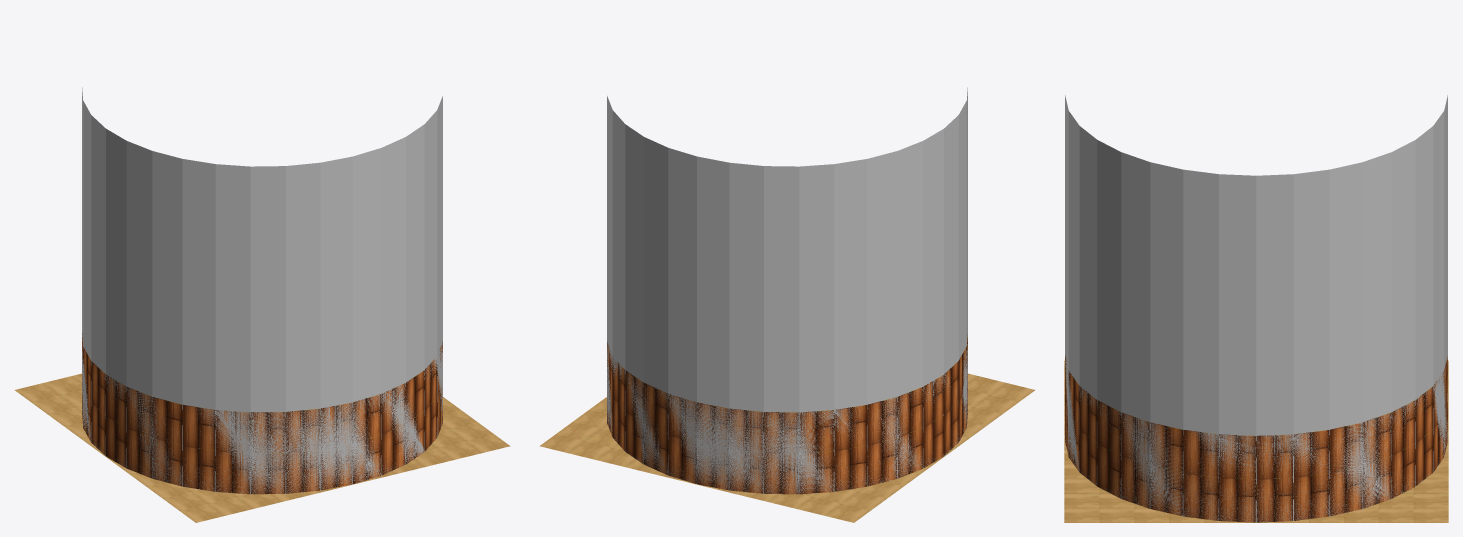
File: BossArena1.glb
3 views of the same model, side by side, from view 1: azimuth 30°, elevation 25°; view 2: azimuth 150°, elevation 25°; view 3: azimuth 270°, elevation 25° (orthographic). The views are drawn at different scales.
Parts seen in each view (by area): view 1: InvisWall, Cylinder; view 2: InvisWall, Cylinder; view 3: InvisWall, Cylinder.
Boxes of the visible parts, x1,y1,x2,y2 form: InvisWall: (82,87,442,494); Cylinder: (15,333,510,522); InvisWall: (607,87,967,493); Cylinder: (539,334,1034,522); InvisWall: (1065,95,1447,522); Cylinder: (1064,355,1448,522).
Bounding box in the file's own units: 48.21 × 48 × 48.21.
Materials: 1 (1 with a texture image).
